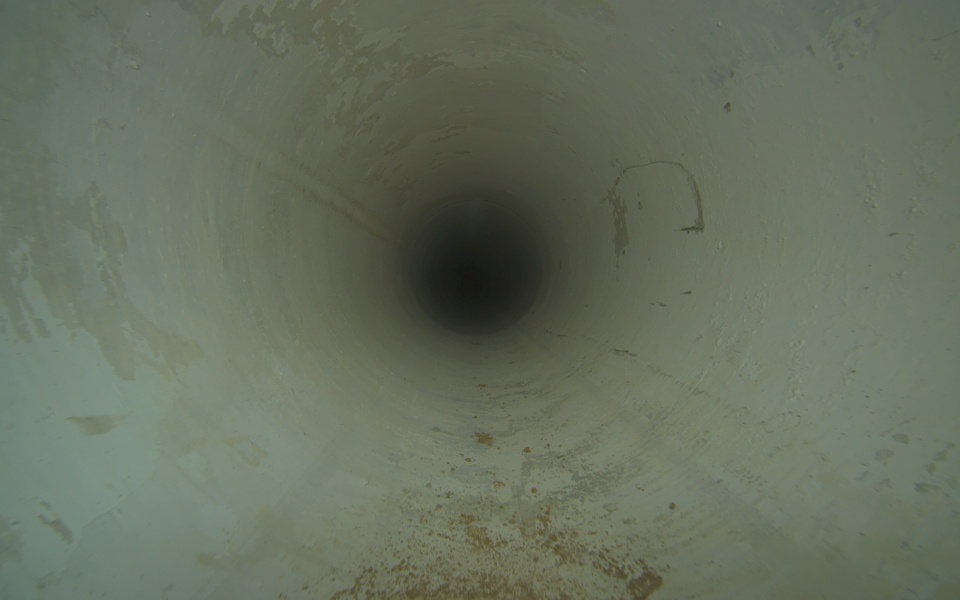circle2: (448, 251, 501, 306)
